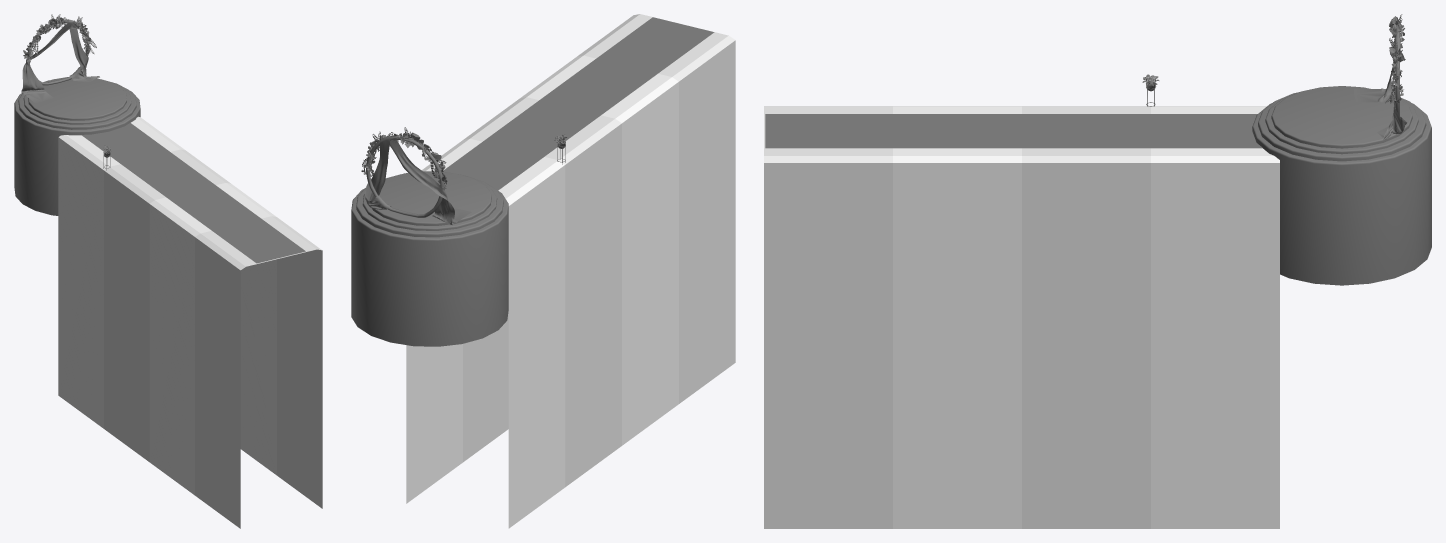
File: New Stage 2nd.FBX
The picture shows the model from 3 angles, left to right: view 1: azimuth 30°, elevation 25°; view 2: azimuth 150°, elevation 25°; view 3: azimuth 270°, elevation 25°; orthographic projection. The views are drawn at different scales.
Visible parts, largest first — view 1: road__10__005, Stage001, Plane002, model_448; view 2: road__10__005, Stage001, Plane002, model_448, model_444, model_450; view 3: road__10__005, Stage001, Plane002, model_448.
Part boxes in pixels (box(x1,y1,x2,y2)): road__10__005: box(58, 116, 322, 528); Stage001: box(14, 77, 140, 215); Plane002: box(81, 123, 305, 263); model_448: box(21, 19, 99, 103); road__10__005: box(406, 14, 735, 528); Stage001: box(351, 171, 508, 346); Plane002: box(443, 17, 714, 190); model_448: box(364, 135, 471, 225); model_444: box(366, 136, 444, 217); model_450: box(361, 133, 446, 186); road__10__005: box(764, 106, 1279, 528); Stage001: box(1252, 86, 1431, 285); Plane002: box(765, 114, 1262, 148); model_448: box(1354, 36, 1406, 140).
Bounding box in the file's own units: 135 × 400 × 501.
2 materials, 1 textured.
